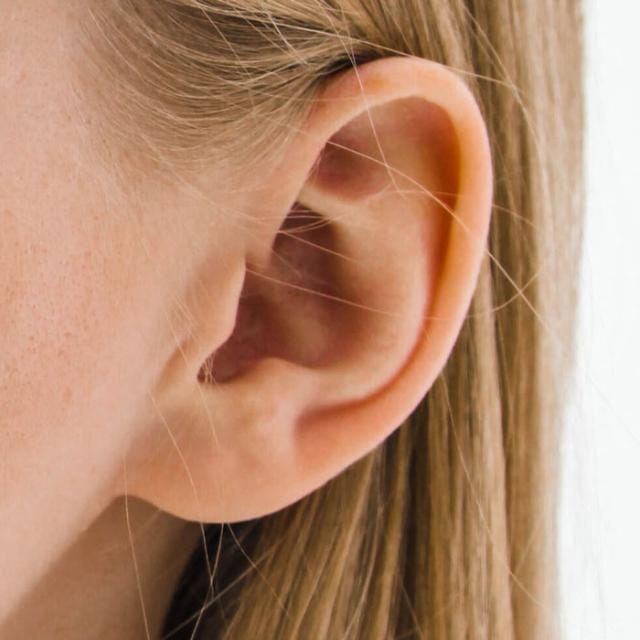earlobe: (152, 367, 288, 526)
wholeear: (152, 53, 493, 527)
